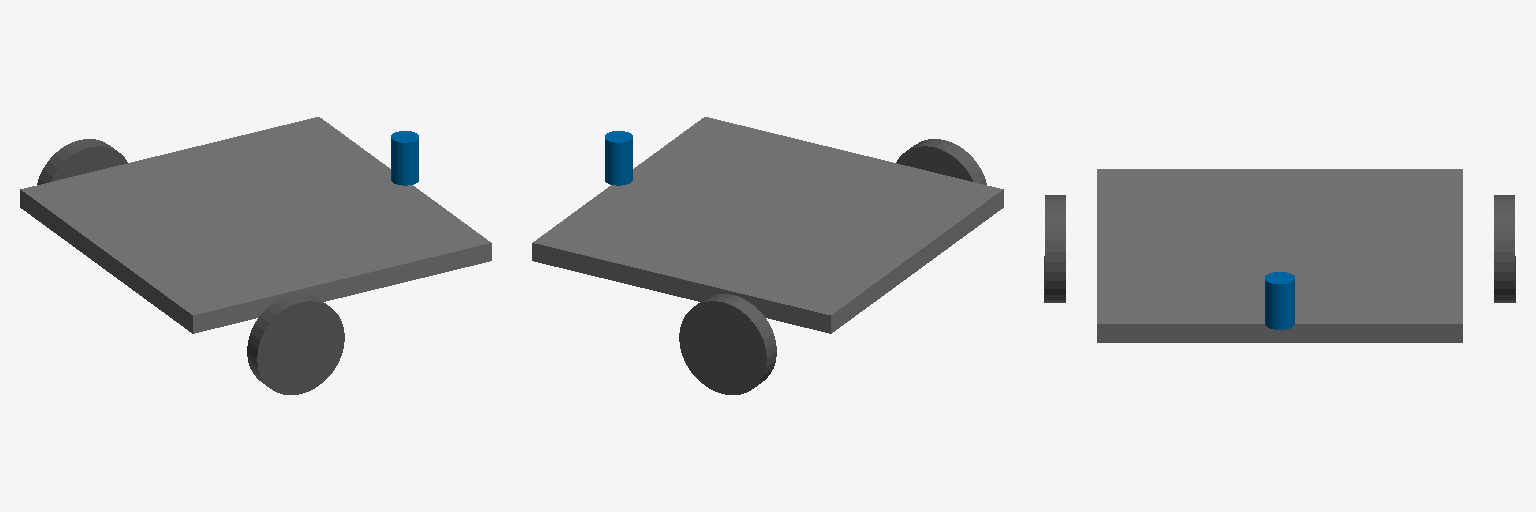
robot.urdf — delibot:
<?xml version="1.0" ?>
<robot name="delibot">

  <material name="black">
    <color rgba="0.0 0.0 0.0 1.0"/>
  </material>
  <material name="orange">
    <color rgba="1.0 0.4 0.0 1.0"/>
  </material>
    <material name="grey">
    <color rgba="0.5 0.5 0.5 1.0"/>
  </material>
  <material name="light_black">
    <color rgba="0.4 0.4 0.4 1.0"/>
  </material>

<link name="base_footprint"/>

  <joint name="base_joint" type="fixed">
    <parent link="base_footprint"/>
    <child link="base_link" />
    <origin xyz="0 0 0.117" rpy="0 0 0"/>
  </joint>

  <link name="base_link">
    <visual>
      <origin xyz=" 0.1125 0 0" rpy="0 0 0"/>
      <geometry>
        <box size="0.51 0.51 0.03"/>
      </geometry>
      <material name="grey"/>
    </visual>

    <collision>
      <origin xyz=" 0.1125 0 0" rpy="0 0 0"/>
      <geometry>
        <box size="0.51 0.51 0.03"/>
      </geometry>
    </collision>
    
    <inertial>
      <origin xyz="0 0 0" rpy="0 0 0"/>
      <mass value="1.3729096e+00"/>
      <inertia ixx="8.7002718e-03" ixy="-4.7576583e-05" ixz="1.1160499e-04"
               iyy="8.6195418e-03" iyz="-3.5422299e-06"
               izz="1.4612727e-02" />
    </inertial>
  </link>

  <joint name="wheel_left_joint" type="continuous">
    <parent link="base_link"/>
    <child link="wheel_left_link"/>
    <origin xyz="0 0.313 -0.042" rpy="-1.57 0 0"/>
    <axis xyz="0 0 1"/>
  </joint>

  <link name="wheel_left_link">
    <visual>
      <origin xyz="0 0 0" rpy="0 0 0"/>
      <geometry>
         <cylinder length="0.03" radius="0.075"/>
      </geometry>
      <material name="light_black"/>
    </visual>

    <collision>
      <origin xyz="0 0 0" rpy="0 0 0"/>
      <geometry>
         <cylinder length="0.03" radius="0.075"/>
      </geometry>
    </collision>

    <inertial>
      <origin xyz="0 0 0" />
      <mass value="2.8498940e-02" />
      <inertia ixx="1.1175580e-05" ixy="-4.2369783e-11" ixz="-5.9381719e-09"
               iyy="1.1192413e-05" iyz="-1.4400107e-11"
               izz="2.0712558e-05" />
      </inertial>
  </link>

  <joint name="wheel_right_joint" type="continuous">
    <parent link="base_link"/>
    <child link="wheel_right_link"/>
    <origin xyz="0 -0.313 -0.042" rpy="1.57 0 0"/>
    <axis xyz="0 0 -1"/>
  </joint>

  <link name="wheel_right_link"> 
    <visual>
      <origin xyz="0 0 0" rpy="0 0 0"/>
      <geometry>
         <cylinder length="0.03" radius="0.075"/>
      </geometry>
      <material name="light_black"/>
    </visual>

    <collision>
      <origin xyz="0 0 0" rpy="0 0 0"/>
      <geometry>
         <cylinder length="0.03" radius="0.075"/>
      </geometry>
    </collision>

    <inertial>
      <origin xyz="0 0 0" />
      <mass value="2.8498940e-02" />
      <inertia ixx="1.1175580e-05" ixy="-4.2369783e-11" ixz="-5.9381719e-09"
               iyy="1.1192413e-05" iyz="-1.4400107e-11"
               izz="2.0712558e-05" />
      </inertial>
  </link>

  <joint name="scan_joint" type="fixed">
    <parent link="base_link"/>
    <child link="base_scan"/>
    <origin xyz="0.3675 0 0.0675" rpy="0 0 0"/>
  </joint>

  <link name="base_scan">
    <visual>
      <origin xyz="0 0 -0.0175" rpy="0 0 0"/>
      <geometry>
        <cylinder length="0.07" radius="0.021"/>
      </geometry>
      <material name="dark"/>
    </visual>

    <collision>
      <origin xyz="0 0 -0.0175" rpy="0 0 0"/>
      <geometry>
        <cylinder length="0.07" radius="0.021"/>
      </geometry>
    </collision>

    <inertial>
      <mass value="0.114" />
      <origin xyz="0 0 0" />
      <inertia ixx="0.001" ixy="0.0" ixz="0.0"
               iyy="0.001" iyz="0.0"
               izz="0.001" />
    </inertial>
  </link>

</robot>

--- What the picture shows (computed from the rendered views, not written in the file) ---
The picture shows the robot from 3 angles, left to right: view 1: azimuth 30°, elevation 25°; view 2: azimuth 150°, elevation 25°; view 3: azimuth 270°, elevation 25°; orthographic projection.
Model delibot with 5 links and 4 joints (2 continuous, 2 fixed), rooted at base_footprint, posed every joint at zero.
Links seen in each view (by area): view 1: base_link, wheel_right_link, wheel_left_link, base_scan; view 2: base_link, wheel_left_link, wheel_right_link, base_scan; view 3: base_link, wheel_left_link, wheel_right_link, base_scan.
Link boxes in pixels (bbox=[...]): base_link: bbox=[20, 117, 491, 333]; wheel_right_link: bbox=[247, 294, 344, 394]; wheel_left_link: bbox=[37, 139, 127, 184]; base_scan: bbox=[391, 131, 418, 185]; base_link: bbox=[532, 117, 1003, 333]; wheel_left_link: bbox=[679, 294, 776, 394]; wheel_right_link: bbox=[896, 139, 986, 184]; base_scan: bbox=[605, 131, 632, 185]; base_link: bbox=[1097, 169, 1462, 342]; wheel_left_link: bbox=[1494, 195, 1515, 302]; wheel_right_link: bbox=[1044, 195, 1065, 302]; base_scan: bbox=[1265, 272, 1294, 329].
Bounding box of the posed robot: 0.531 × 0.6561 × 0.202 m (x, y, z).
Geometry: primitives only (box / cylinder / sphere), no mesh files.